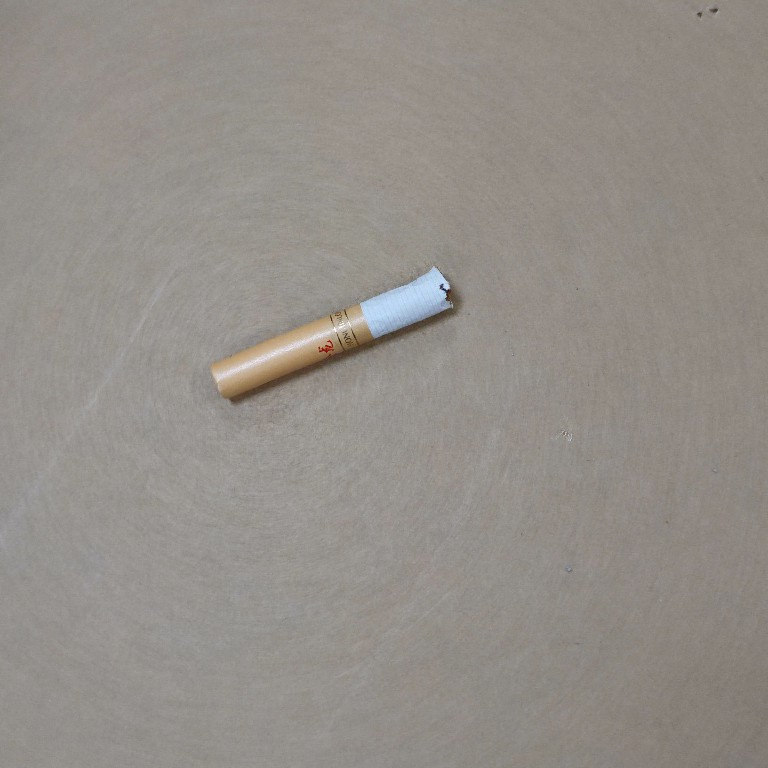cigarette: (207, 263, 462, 400)
